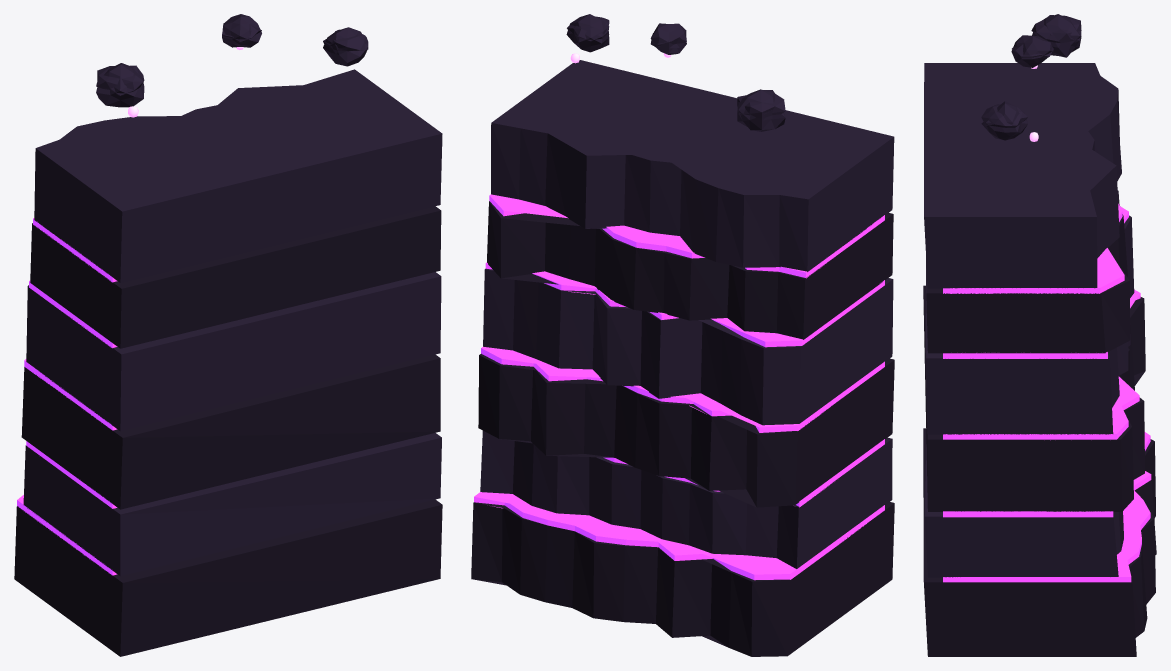
File: Cliff_Void.glb
The picture shows the model from 3 angles, left to right: view 1: azimuth 30°, elevation 25°; view 2: azimuth 150°, elevation 25°; view 3: azimuth 270°, elevation 25°; orthographic projection.
Parts seen in each view (by area): view 1: RockLight, Rock, Floaters, Veins; view 2: RockLight, Rock, Veins, Floaters; view 3: RockLight, Rock, Veins, Floaters.
Boxes of the visible parts, left/top/right/bottom form: RockLight: left=23, top=69, right=442, bottom=576; Rock: left=14, top=206, right=442, bottom=656; Floaters: left=96, top=14, right=368, bottom=107; Veins: left=17, top=218, right=117, bottom=575; RockLight: left=480, top=60, right=894, bottom=568; Rock: left=471, top=201, right=894, bottom=656; Veins: left=474, top=194, right=884, bottom=580; Floaters: left=566, top=14, right=785, bottom=131; RockLight: left=924, top=63, right=1134, bottom=577; Rock: left=923, top=190, right=1156, bottom=656; Veins: left=943, top=203, right=1151, bottom=582; Floaters: left=981, top=14, right=1081, bottom=140.
Bounding box in the file's own units: 24 × 40.02 × 15.39.
